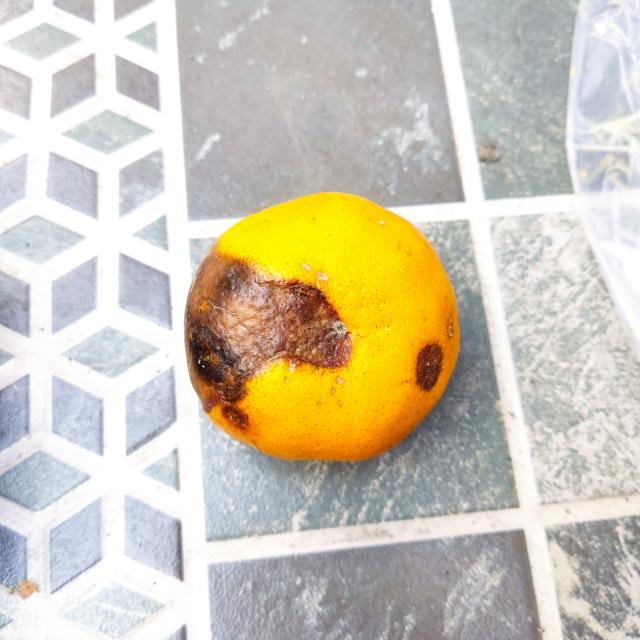orange: (178, 185, 468, 469)
